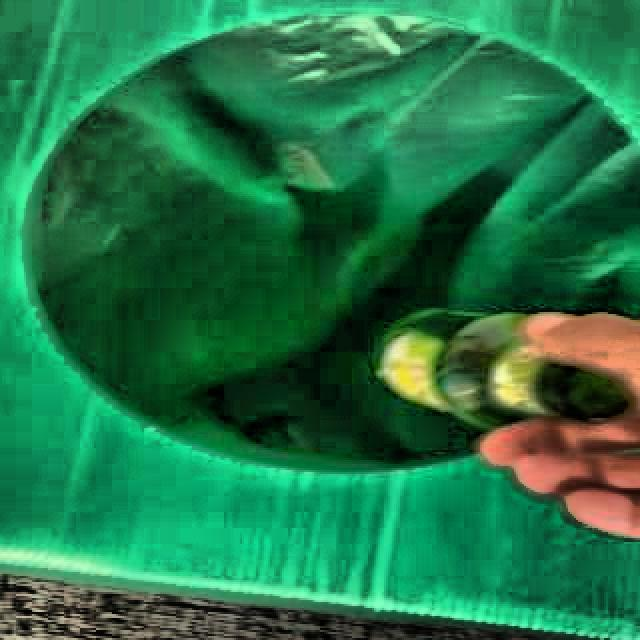glass: (379, 315, 635, 431)
